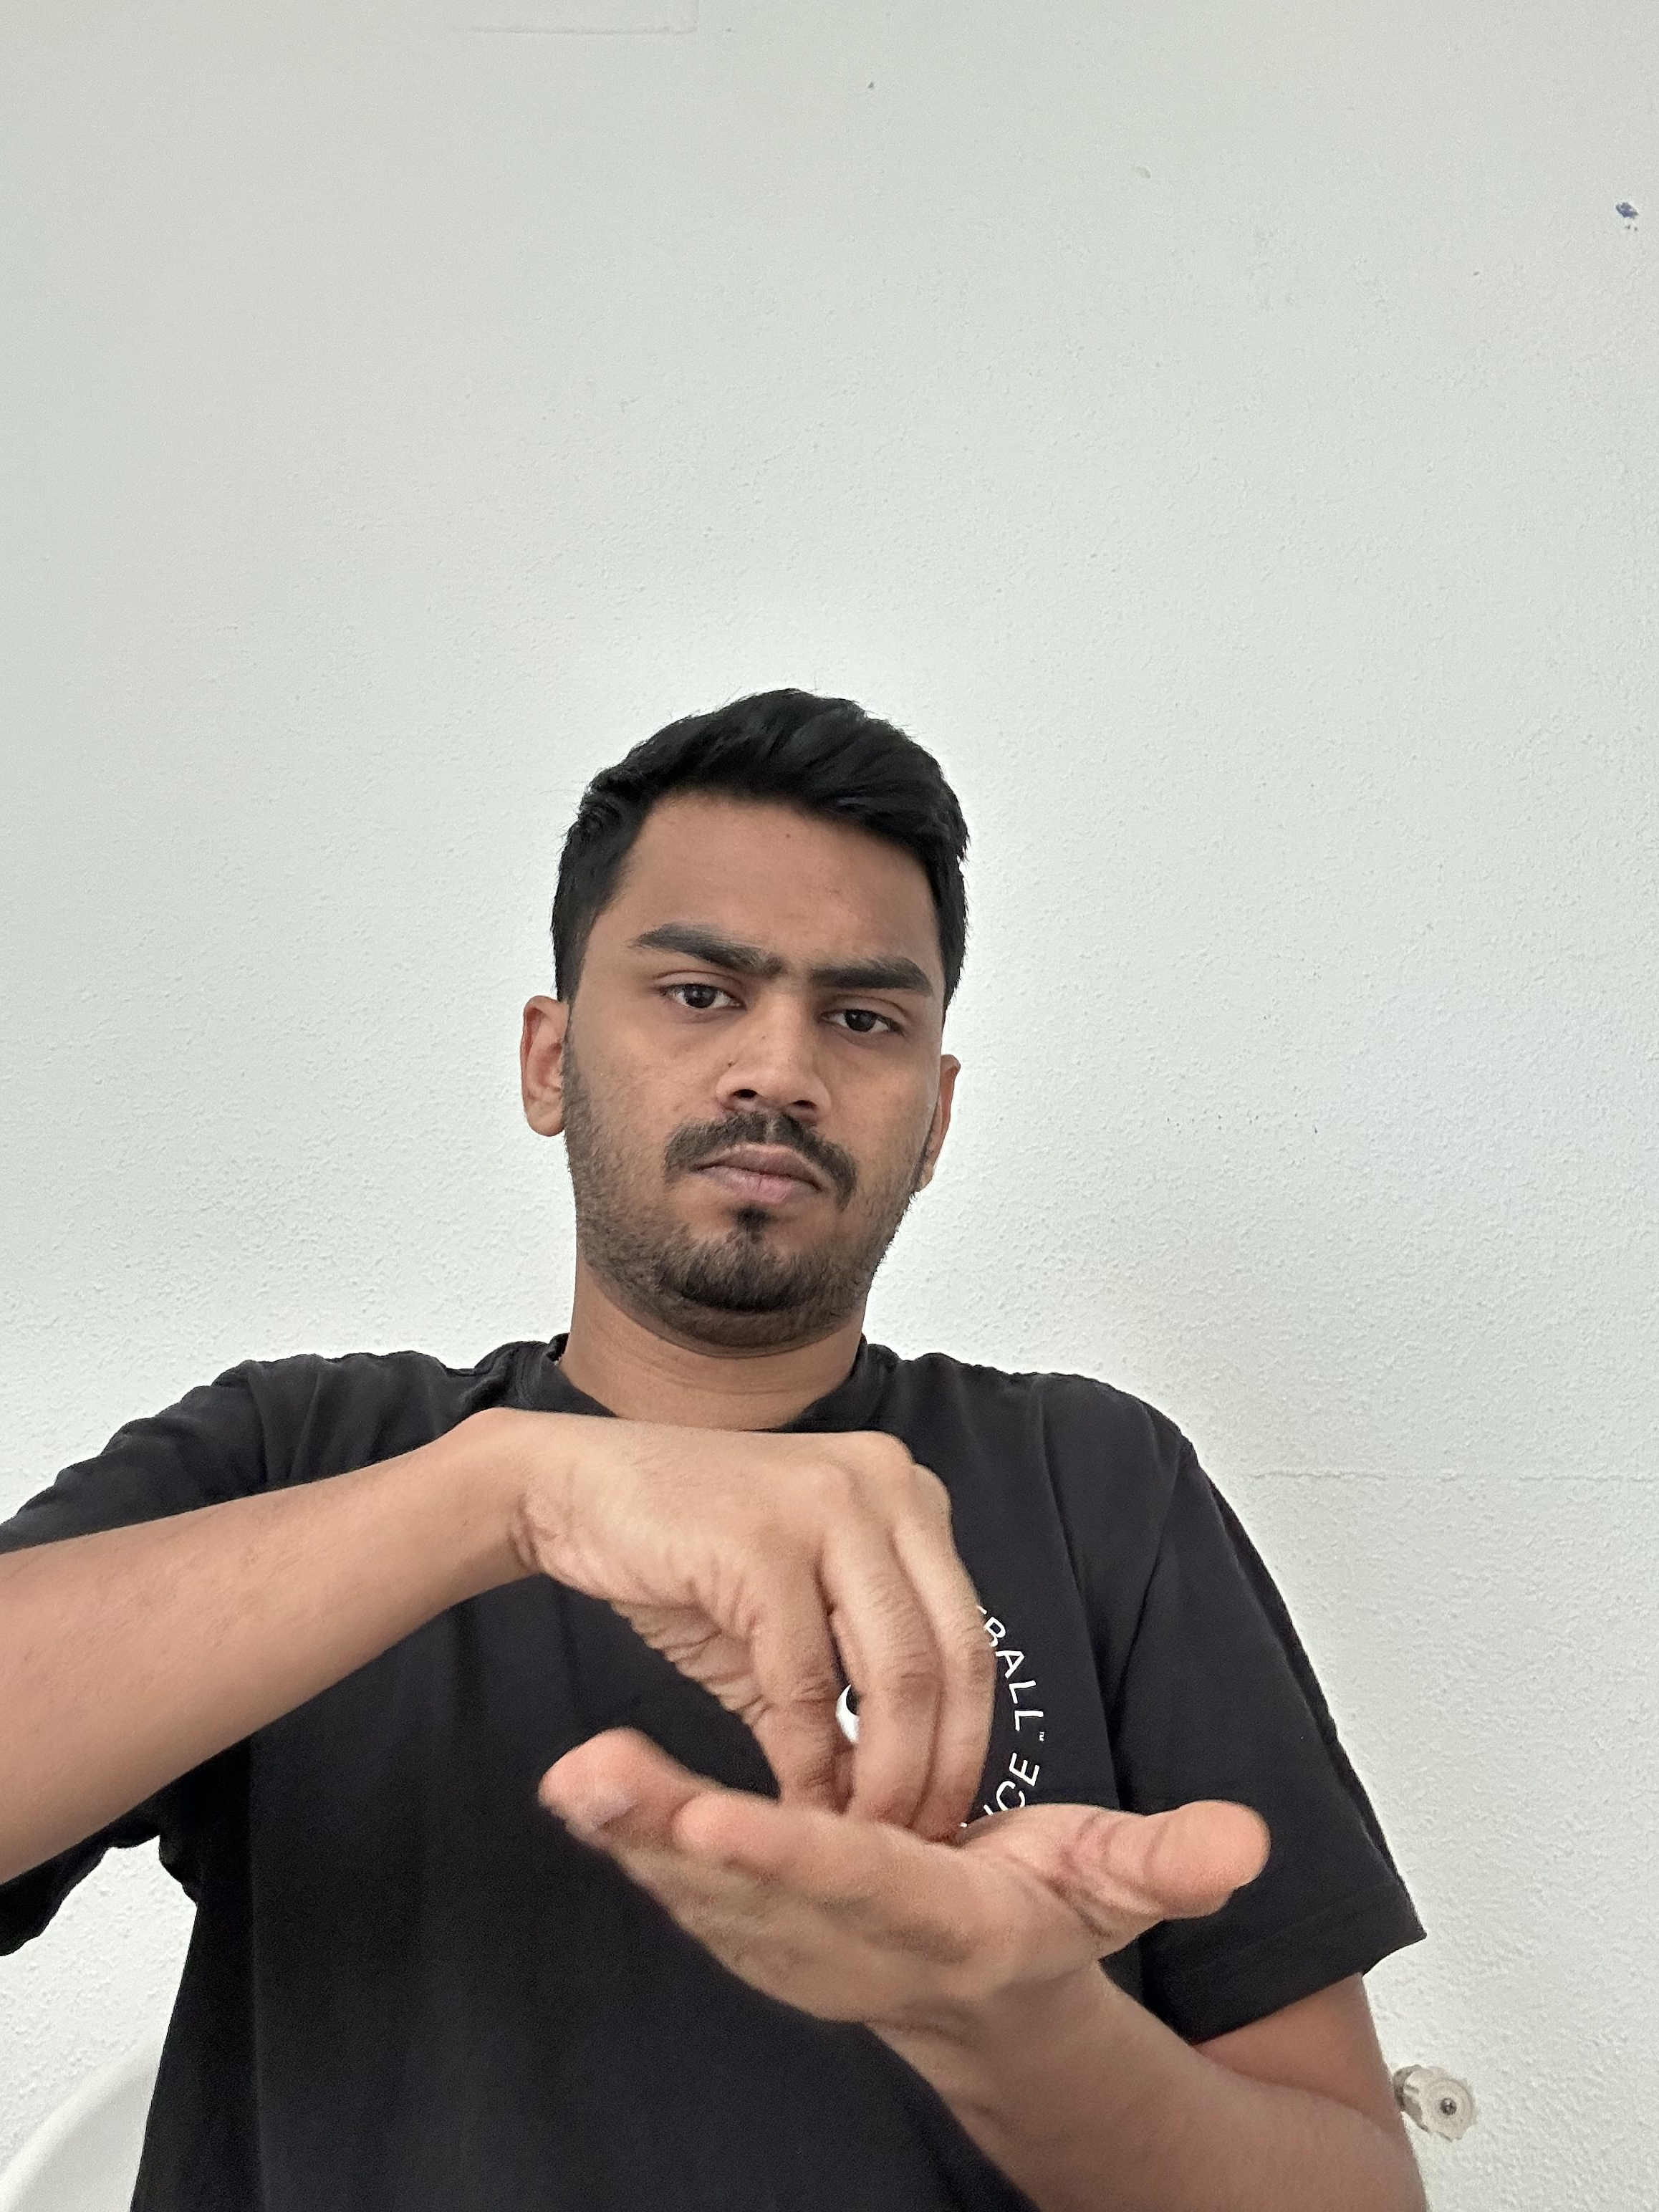learning: (3, 683, 1438, 2203)
